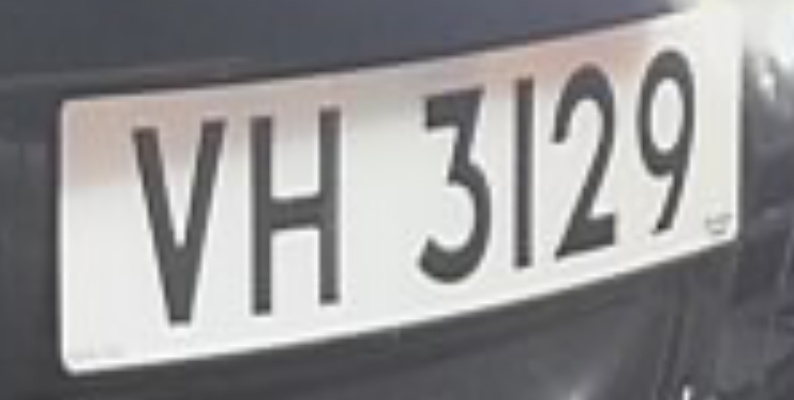1: (494, 65, 556, 288)
2: (537, 51, 633, 272)
3: (394, 68, 507, 301)
9: (618, 35, 709, 258)
H: (234, 88, 361, 332)
V: (112, 97, 240, 339)
